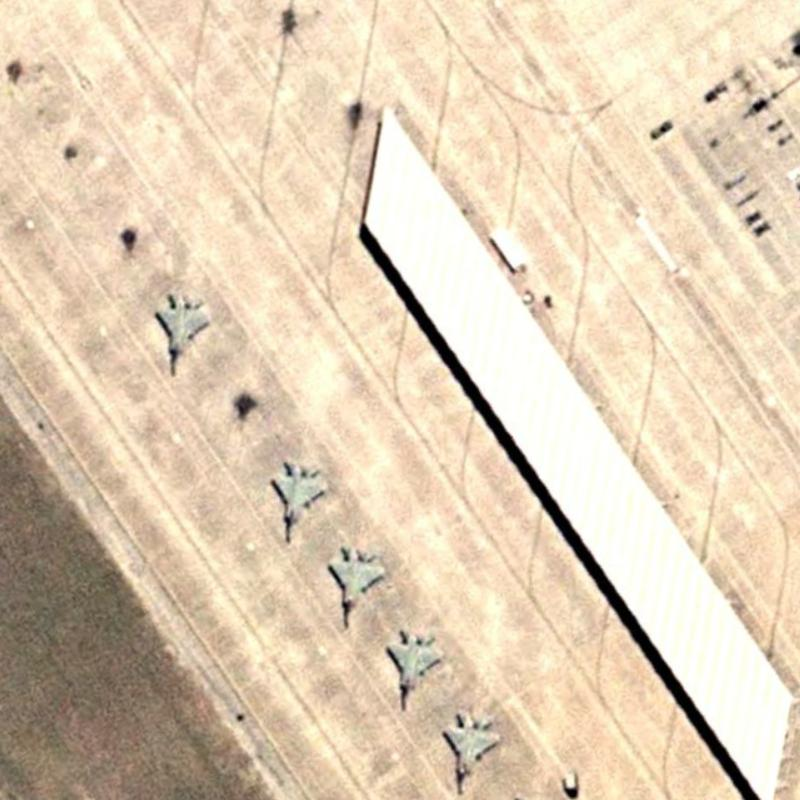A13: (435, 705, 504, 797), (262, 458, 331, 547), (148, 288, 211, 381), (324, 544, 388, 634), (381, 626, 442, 713)
